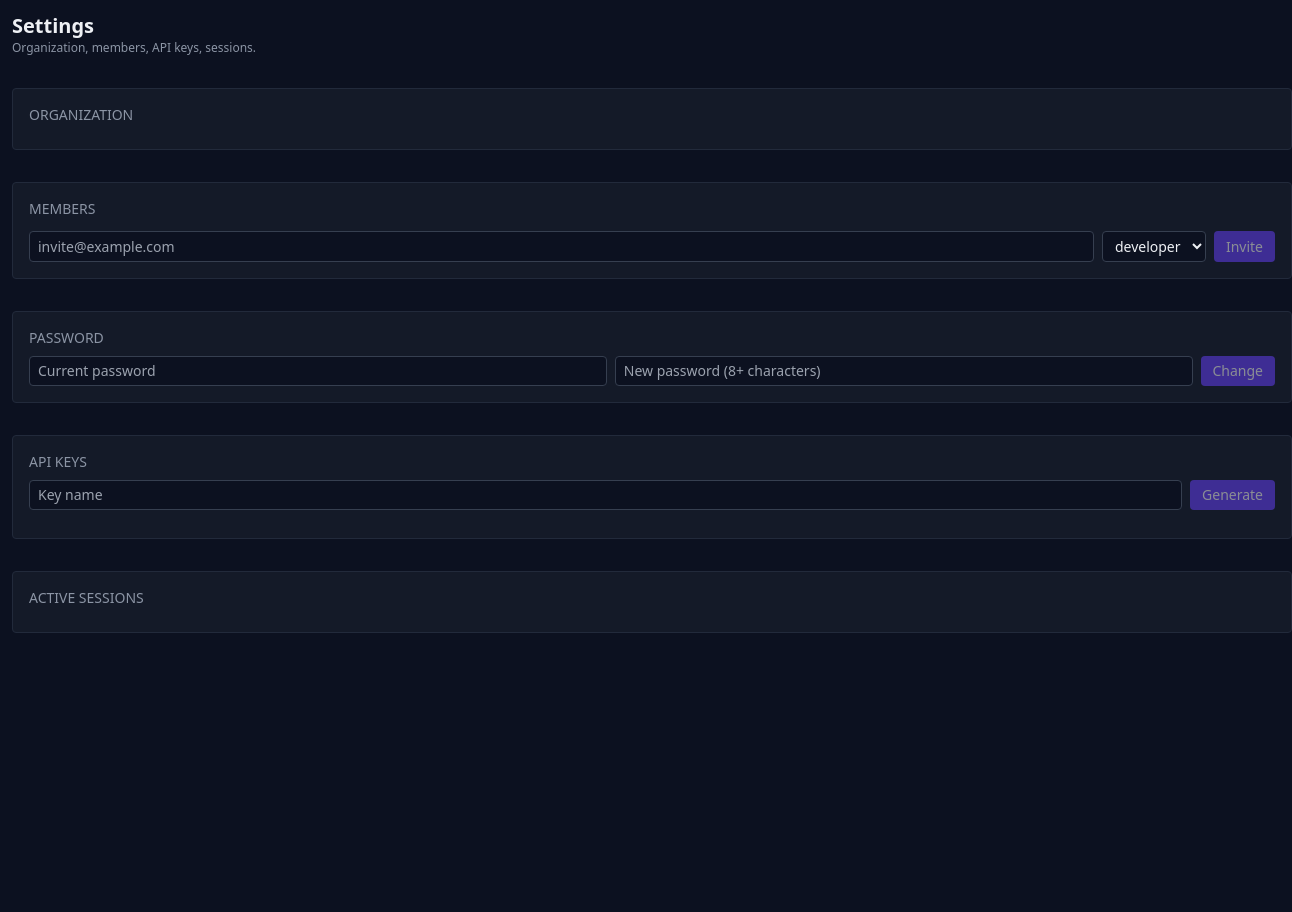
Test: Settings invite › sends the invite and shows where it went, never a password
Type "new@b.co" into the field with placeholder "invite@example.com" at (561, 246), box [29, 231, 1094, 262]
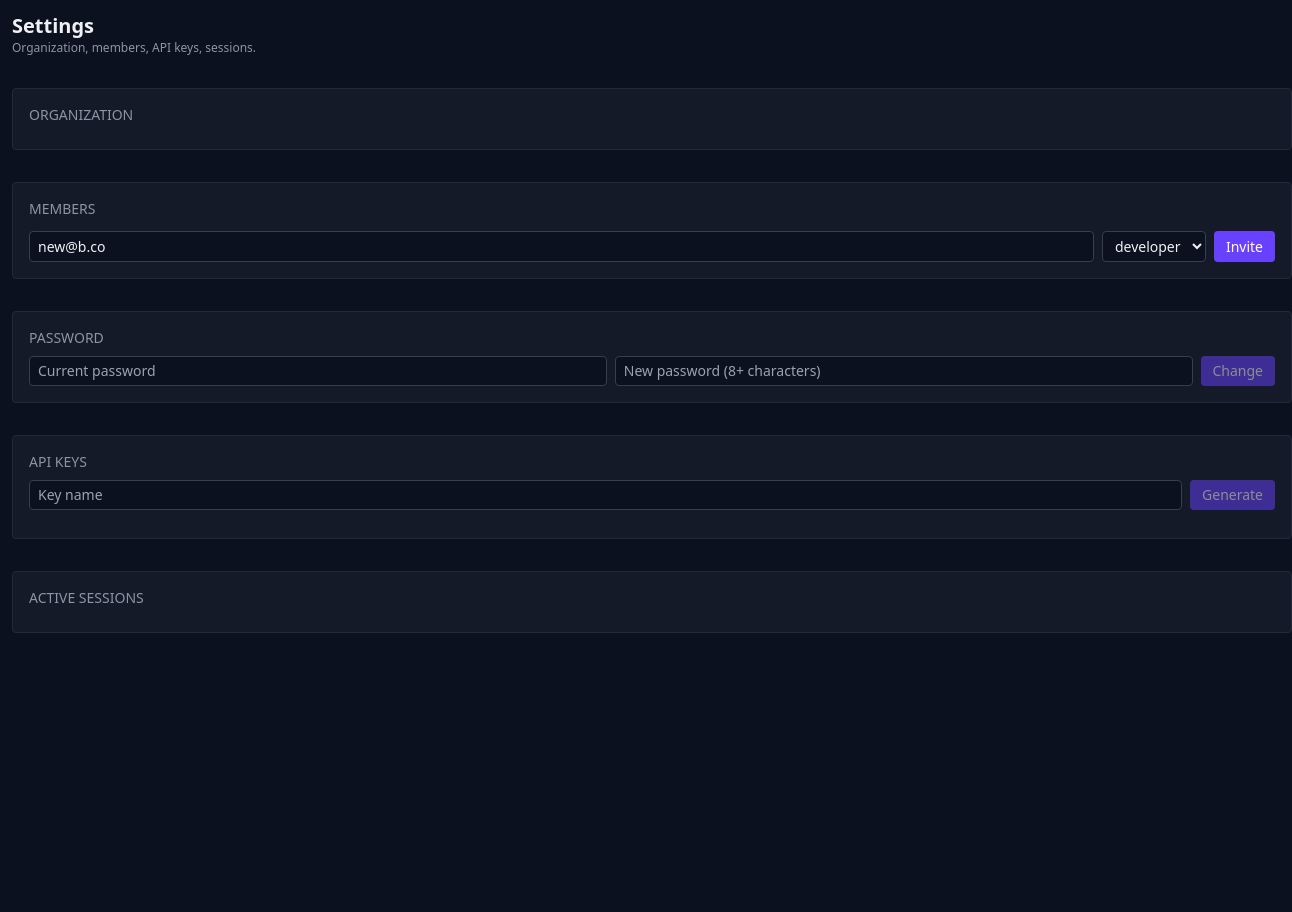
Select "viewer" in the dropdown showing "developer" at (1154, 246), box [1102, 231, 1206, 262]
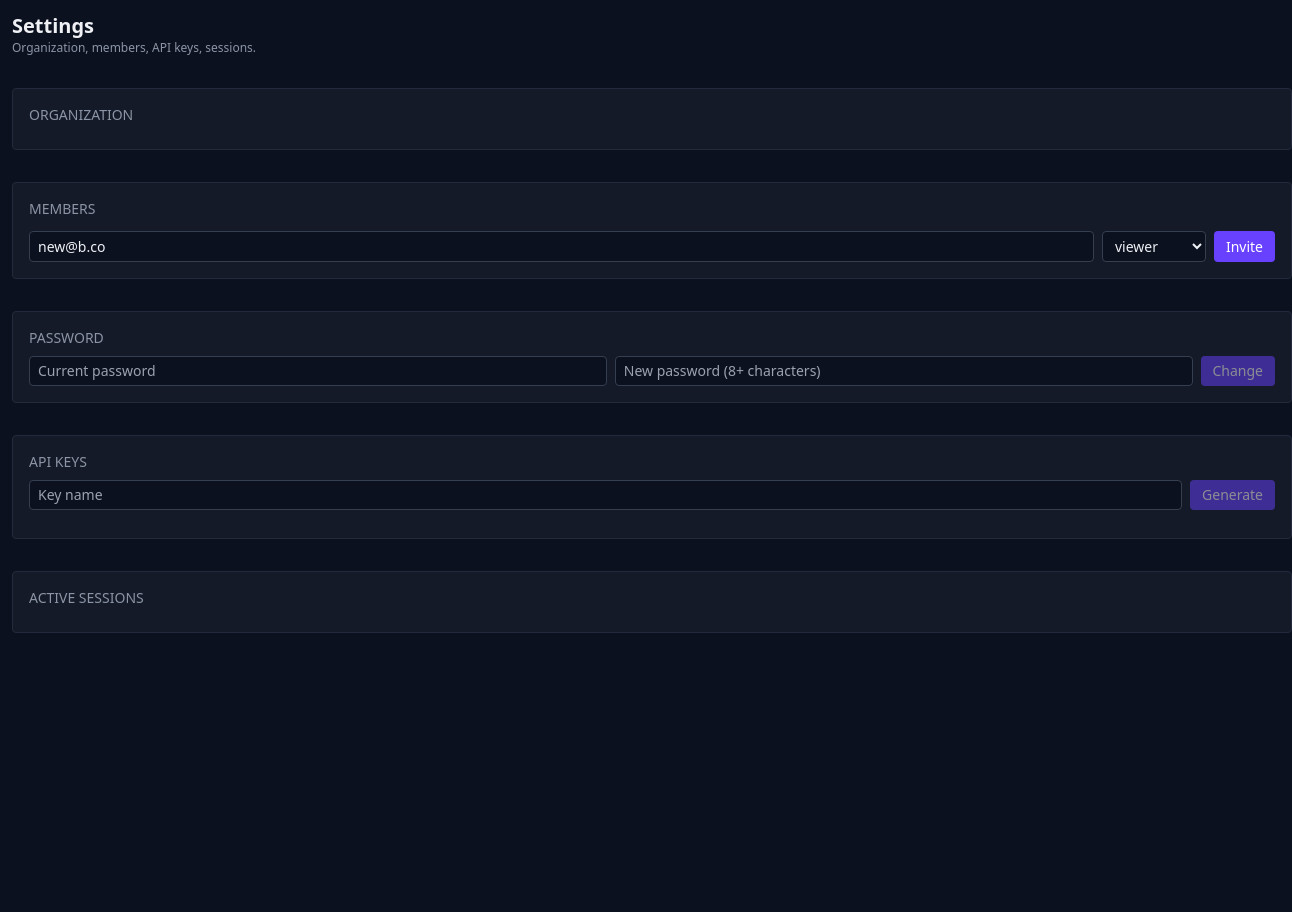
Click the button "Invite" at (1244, 246), box [1214, 231, 1275, 262]
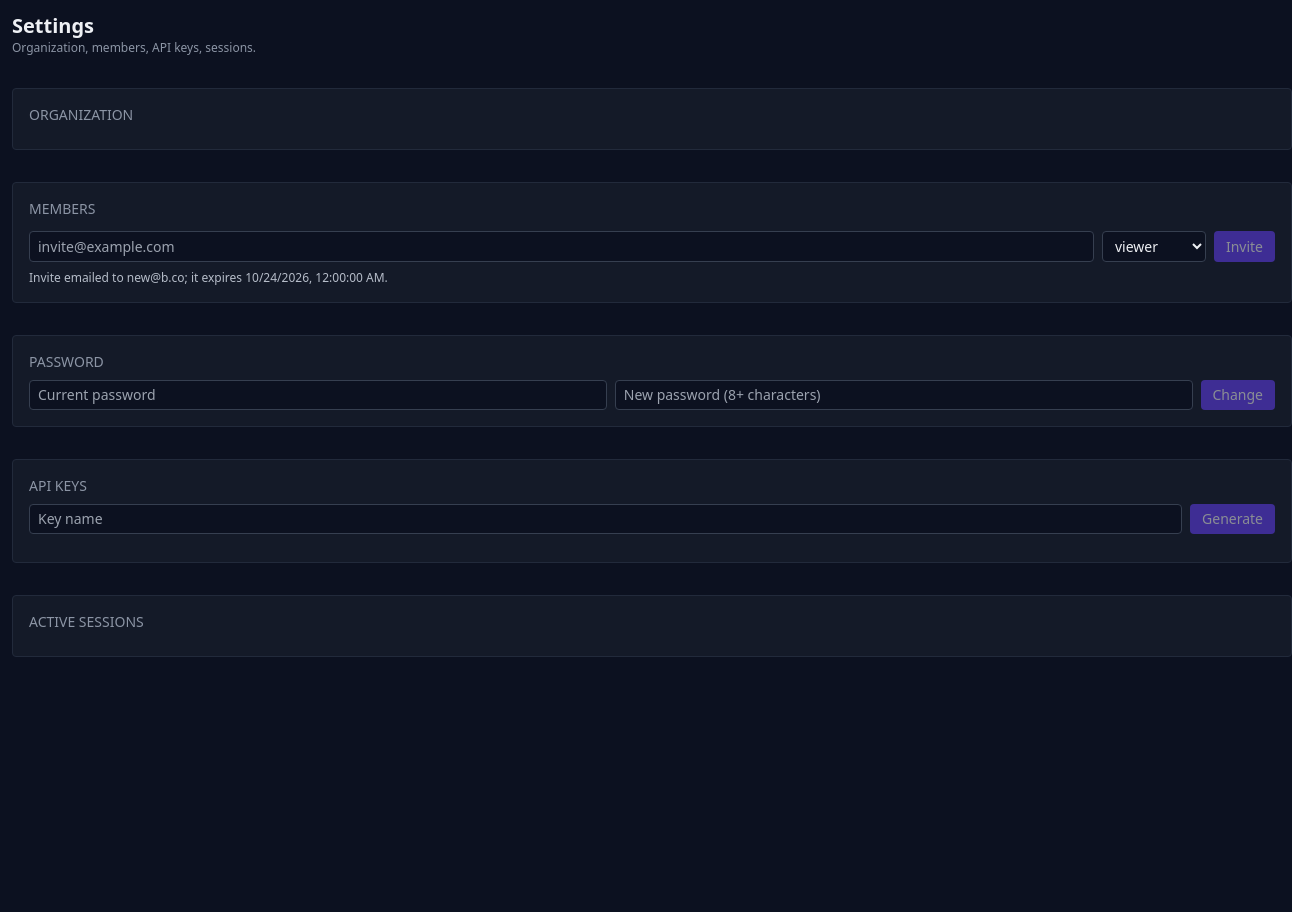
Expected: the text with test id "invite-result" shows "Invite emailed to new@b.co", [29, 269, 388, 286]
